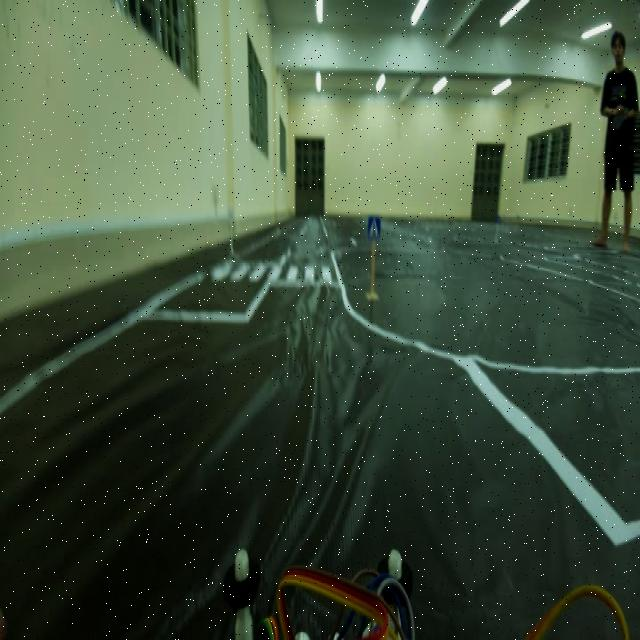crosswalk: (363, 208, 385, 242)
